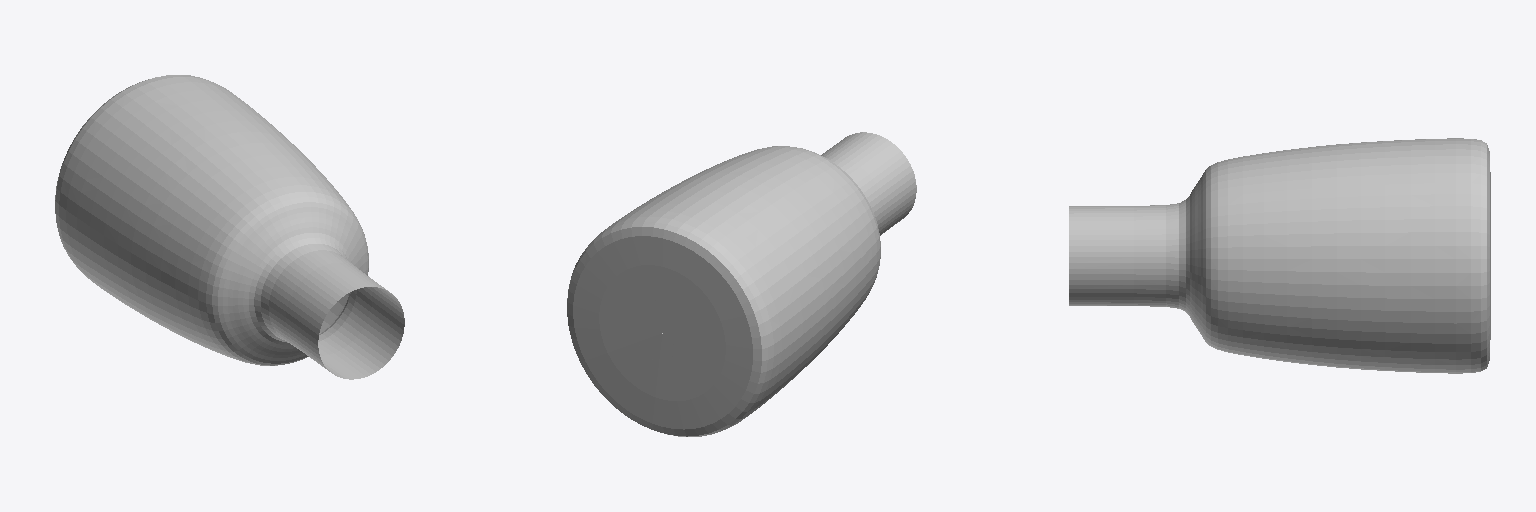
The model's file is housesp_035.obj.
3 views of the same model, side by side, from view 1: azimuth 30°, elevation 25°; view 2: azimuth 150°, elevation 25°; view 3: azimuth 270°, elevation 25° (orthographic).
Size of the model in its own units: 5.71 by 5.72 by 10.26.